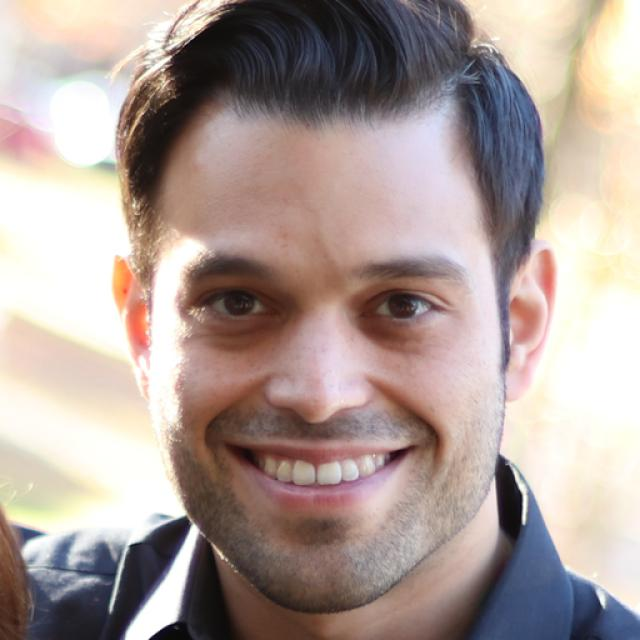Dark Circle: (198, 309, 290, 350), (355, 315, 448, 352)
